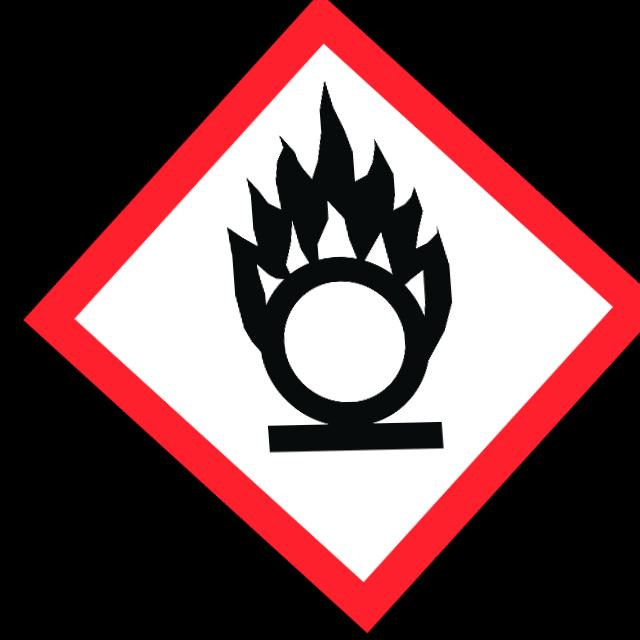oxidising: (214, 80, 456, 453)
